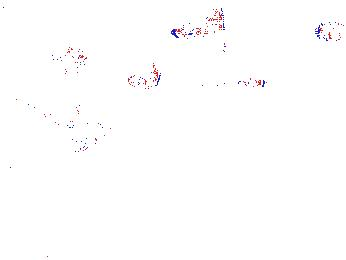X-ray fish: (311, 20, 346, 41)
glassfish: (1, 88, 70, 140), (73, 99, 110, 137)
red belly glassfish: (204, 75, 268, 94)
redtail glassfish: (169, 6, 228, 39), (48, 46, 87, 77), (123, 65, 163, 91)
